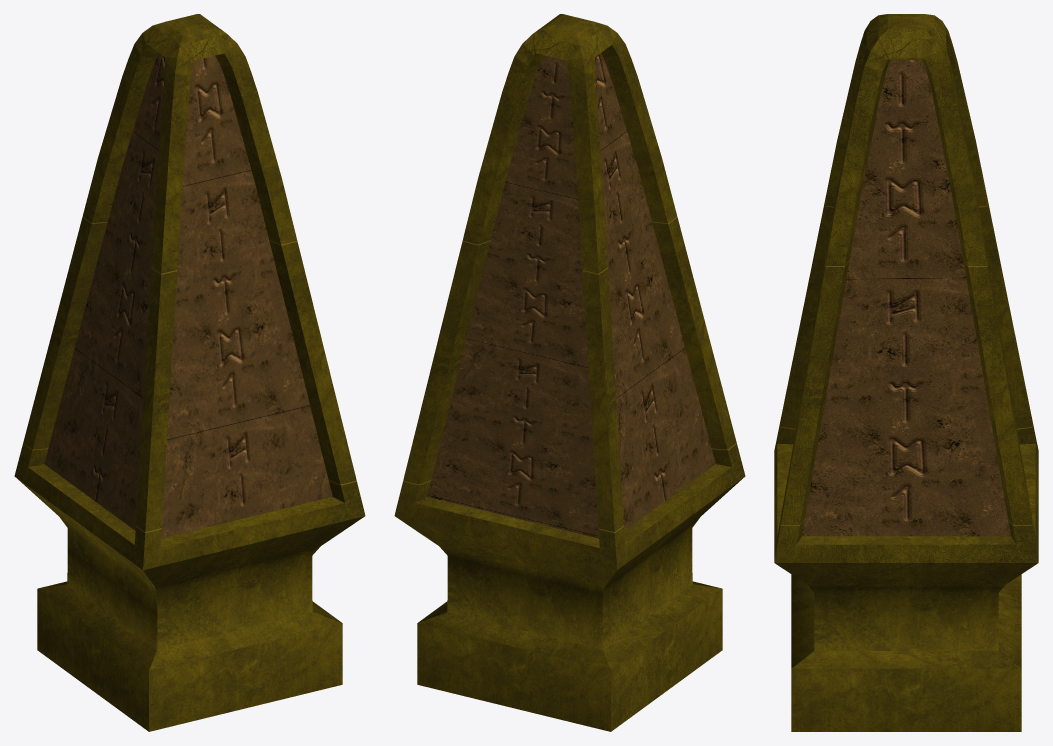
File: stellaIce.obj
3 renders of one model, left to right at view 1: azimuth 30°, elevation 25°; view 2: azimuth 150°, elevation 25°; view 3: azimuth 270°, elevation 25°, orthographic. The views are drawn at different scales.
Parts seen in each view (by area): view 1: stella_ice; view 2: stella_ice; view 3: stella_ice.
Boxes of the visible parts, <box> form: stella_ice: <box>14,14,365,731</box>; stella_ice: <box>394,14,745,731</box>; stella_ice: <box>774,14,1038,731</box>.
Size of the model in its own units: 91.91 by 254 by 91.91.
2 materials, 2 textured.
